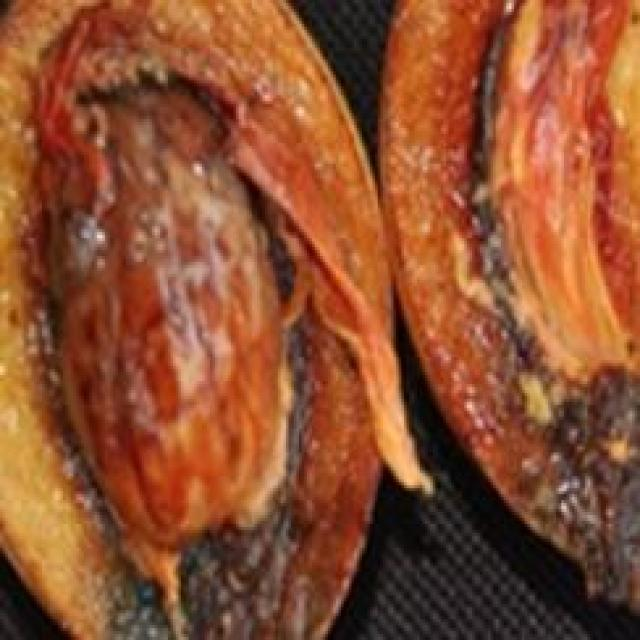damaged: (3, 0, 435, 637), (378, 0, 637, 619)
